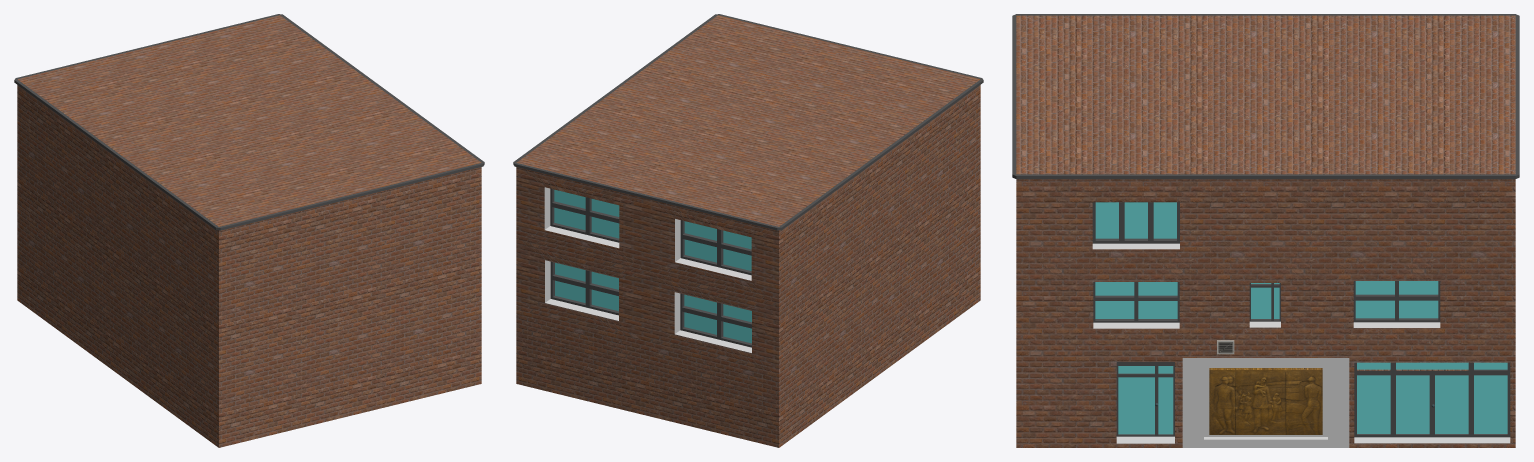
File: edificioTecno.fbx
3 views of the same model, side by side, from view 1: azimuth 30°, elevation 25°; view 2: azimuth 150°, elevation 25°; view 3: azimuth 270°, elevation 25° (orthographic). The views are drawn at different scales.
Visible parts, largest first — view 1: Cube; view 2: Cube; view 3: Cube.
Boxes of the visible parts, box(x1,y1,x2,y2) form: Cube: box(14, 14, 484, 447); Cube: box(513, 14, 983, 447); Cube: box(1012, 14, 1519, 447).
Size of the model in its own units: 746 by 587 by 986.
7 materials, 3 textured.
